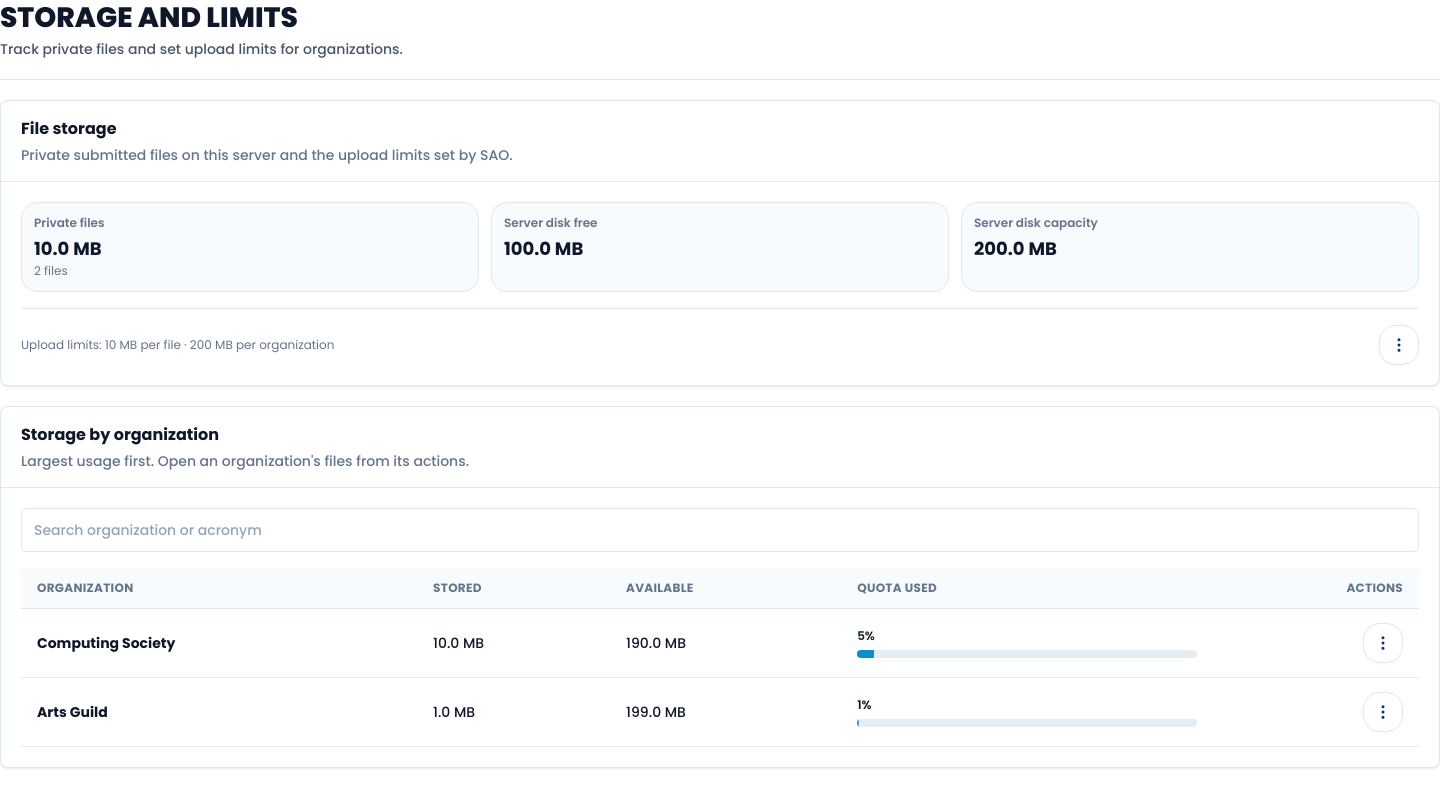
Test: Storage overview › edits limits in a separate form and keeps a server failure visible
The width and height of the screenshot is (1440, 810).
Click the button named "Actions for Storage limits" at (1399, 345), box 1379,325 -> 1419,365
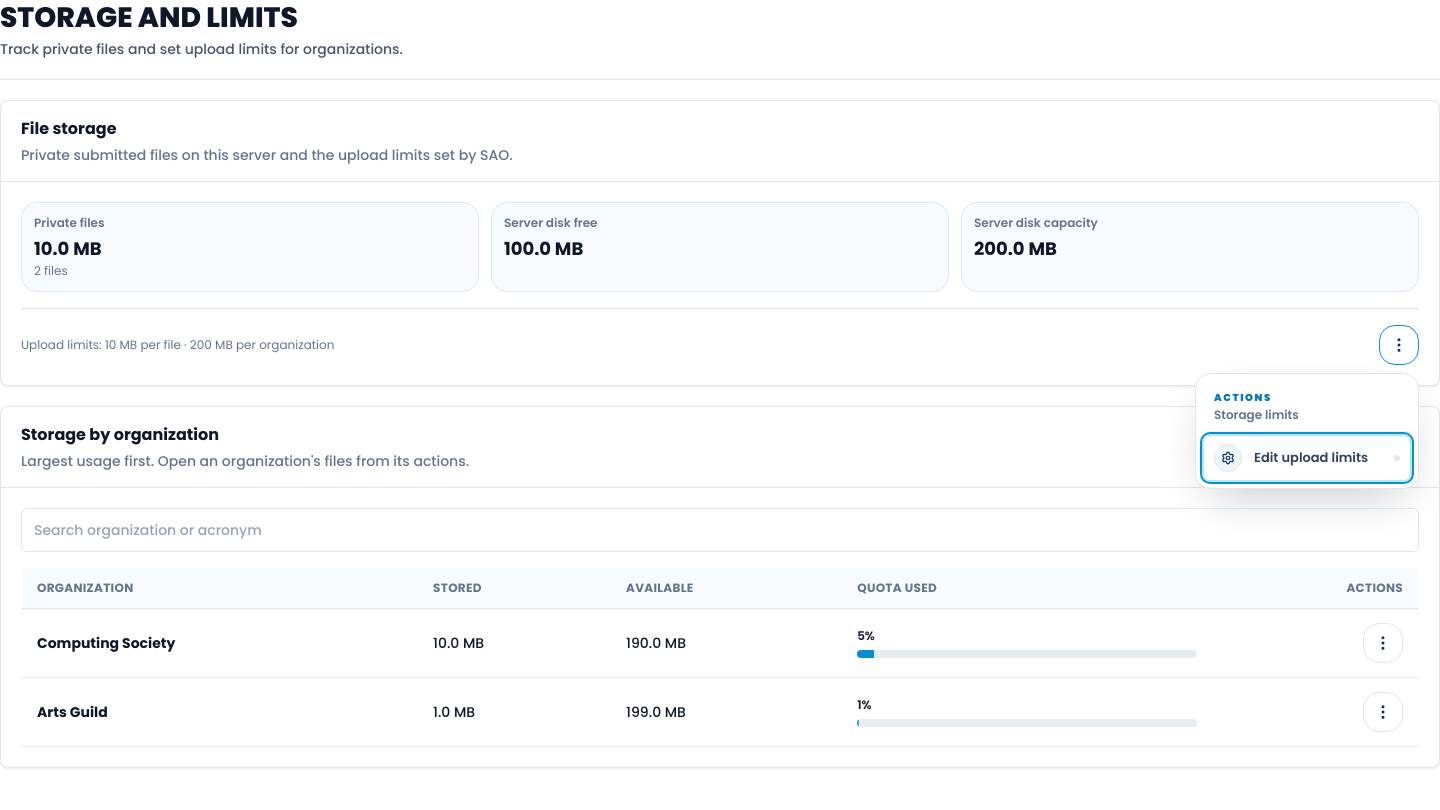
Click the menu item "Edit upload limits" at (1307, 458), box 1204,436 -> 1410,480
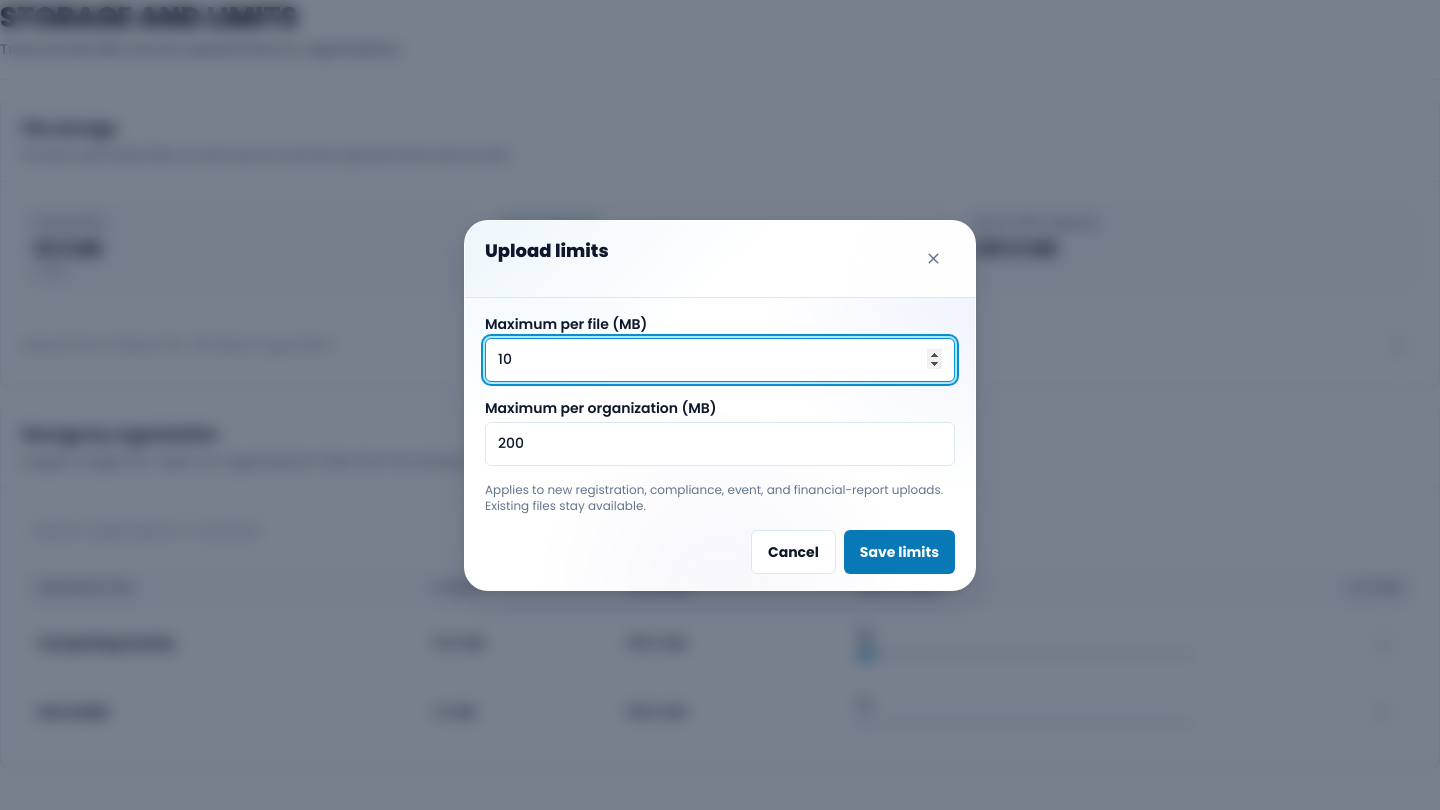
Replace the text in the number field labelled "Maximum per file (MB)" with "5" at (720, 360), box 485,338 -> 955,382
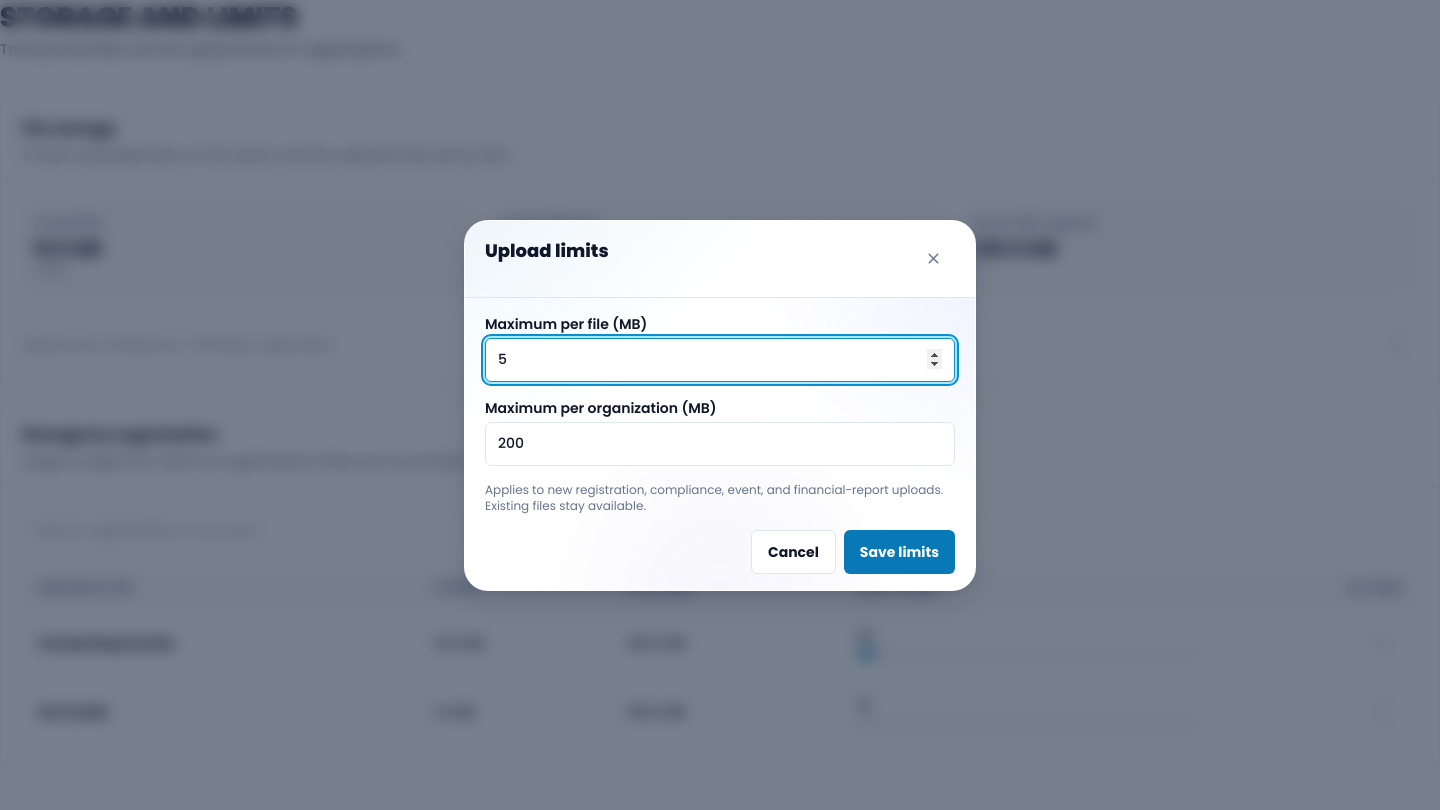
Click the button "Save limits" at (899, 552), box 844,530 -> 955,574
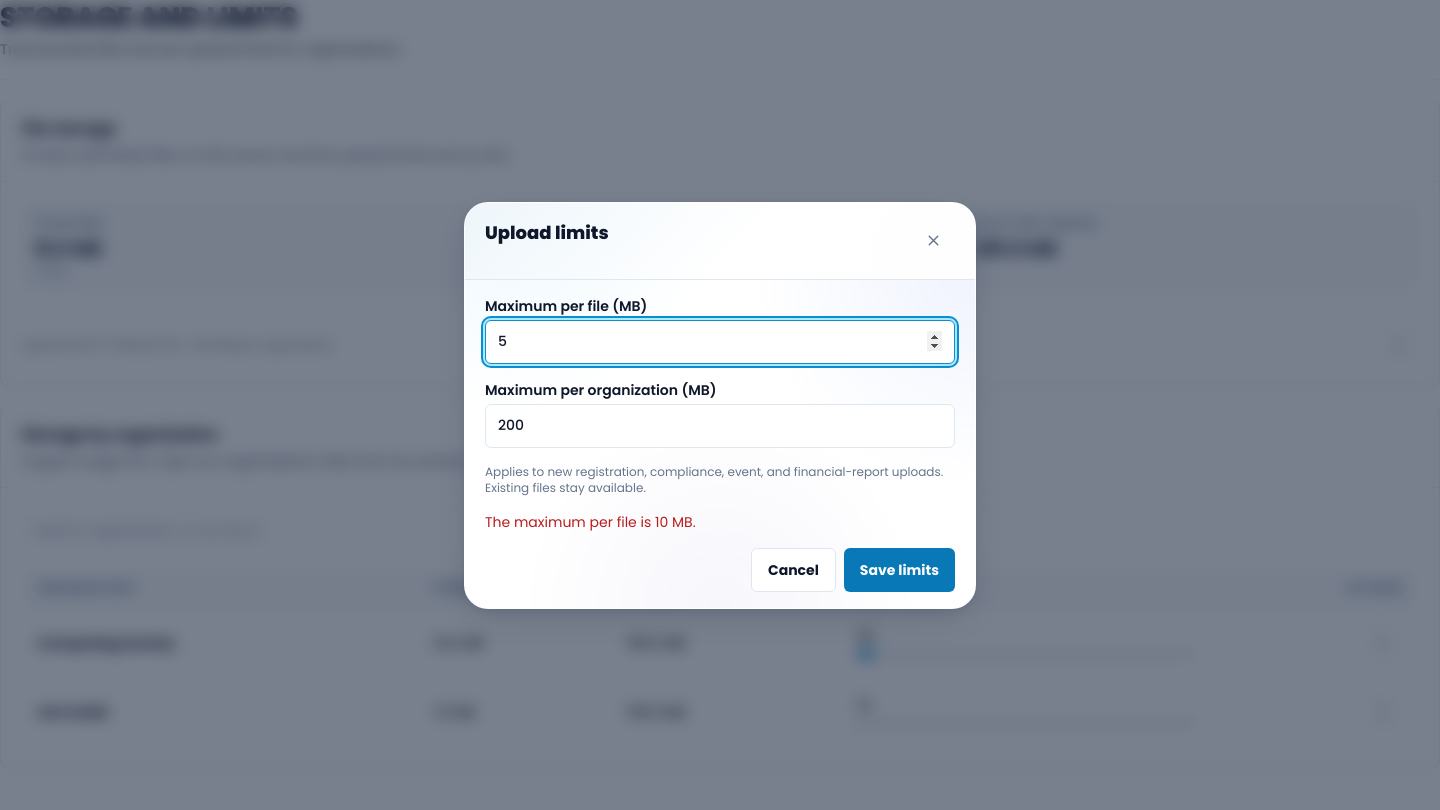
Expected: the message shows "10 MB", 485,512 -> 696,532
